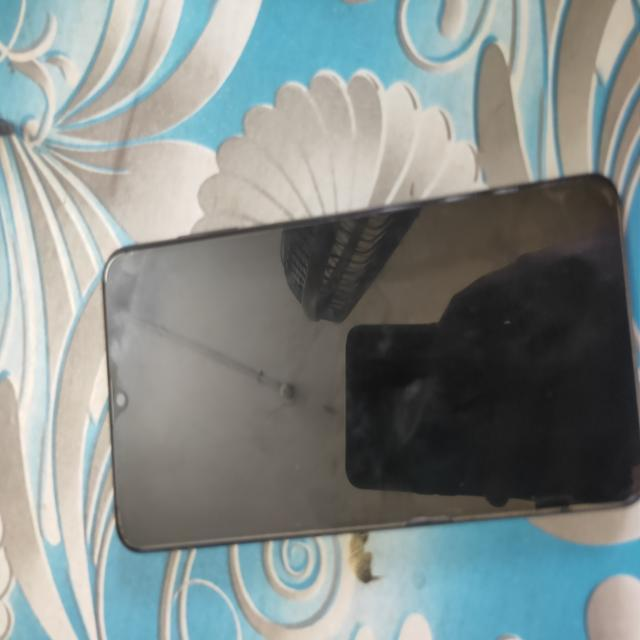Phone: (97, 172, 639, 556)
